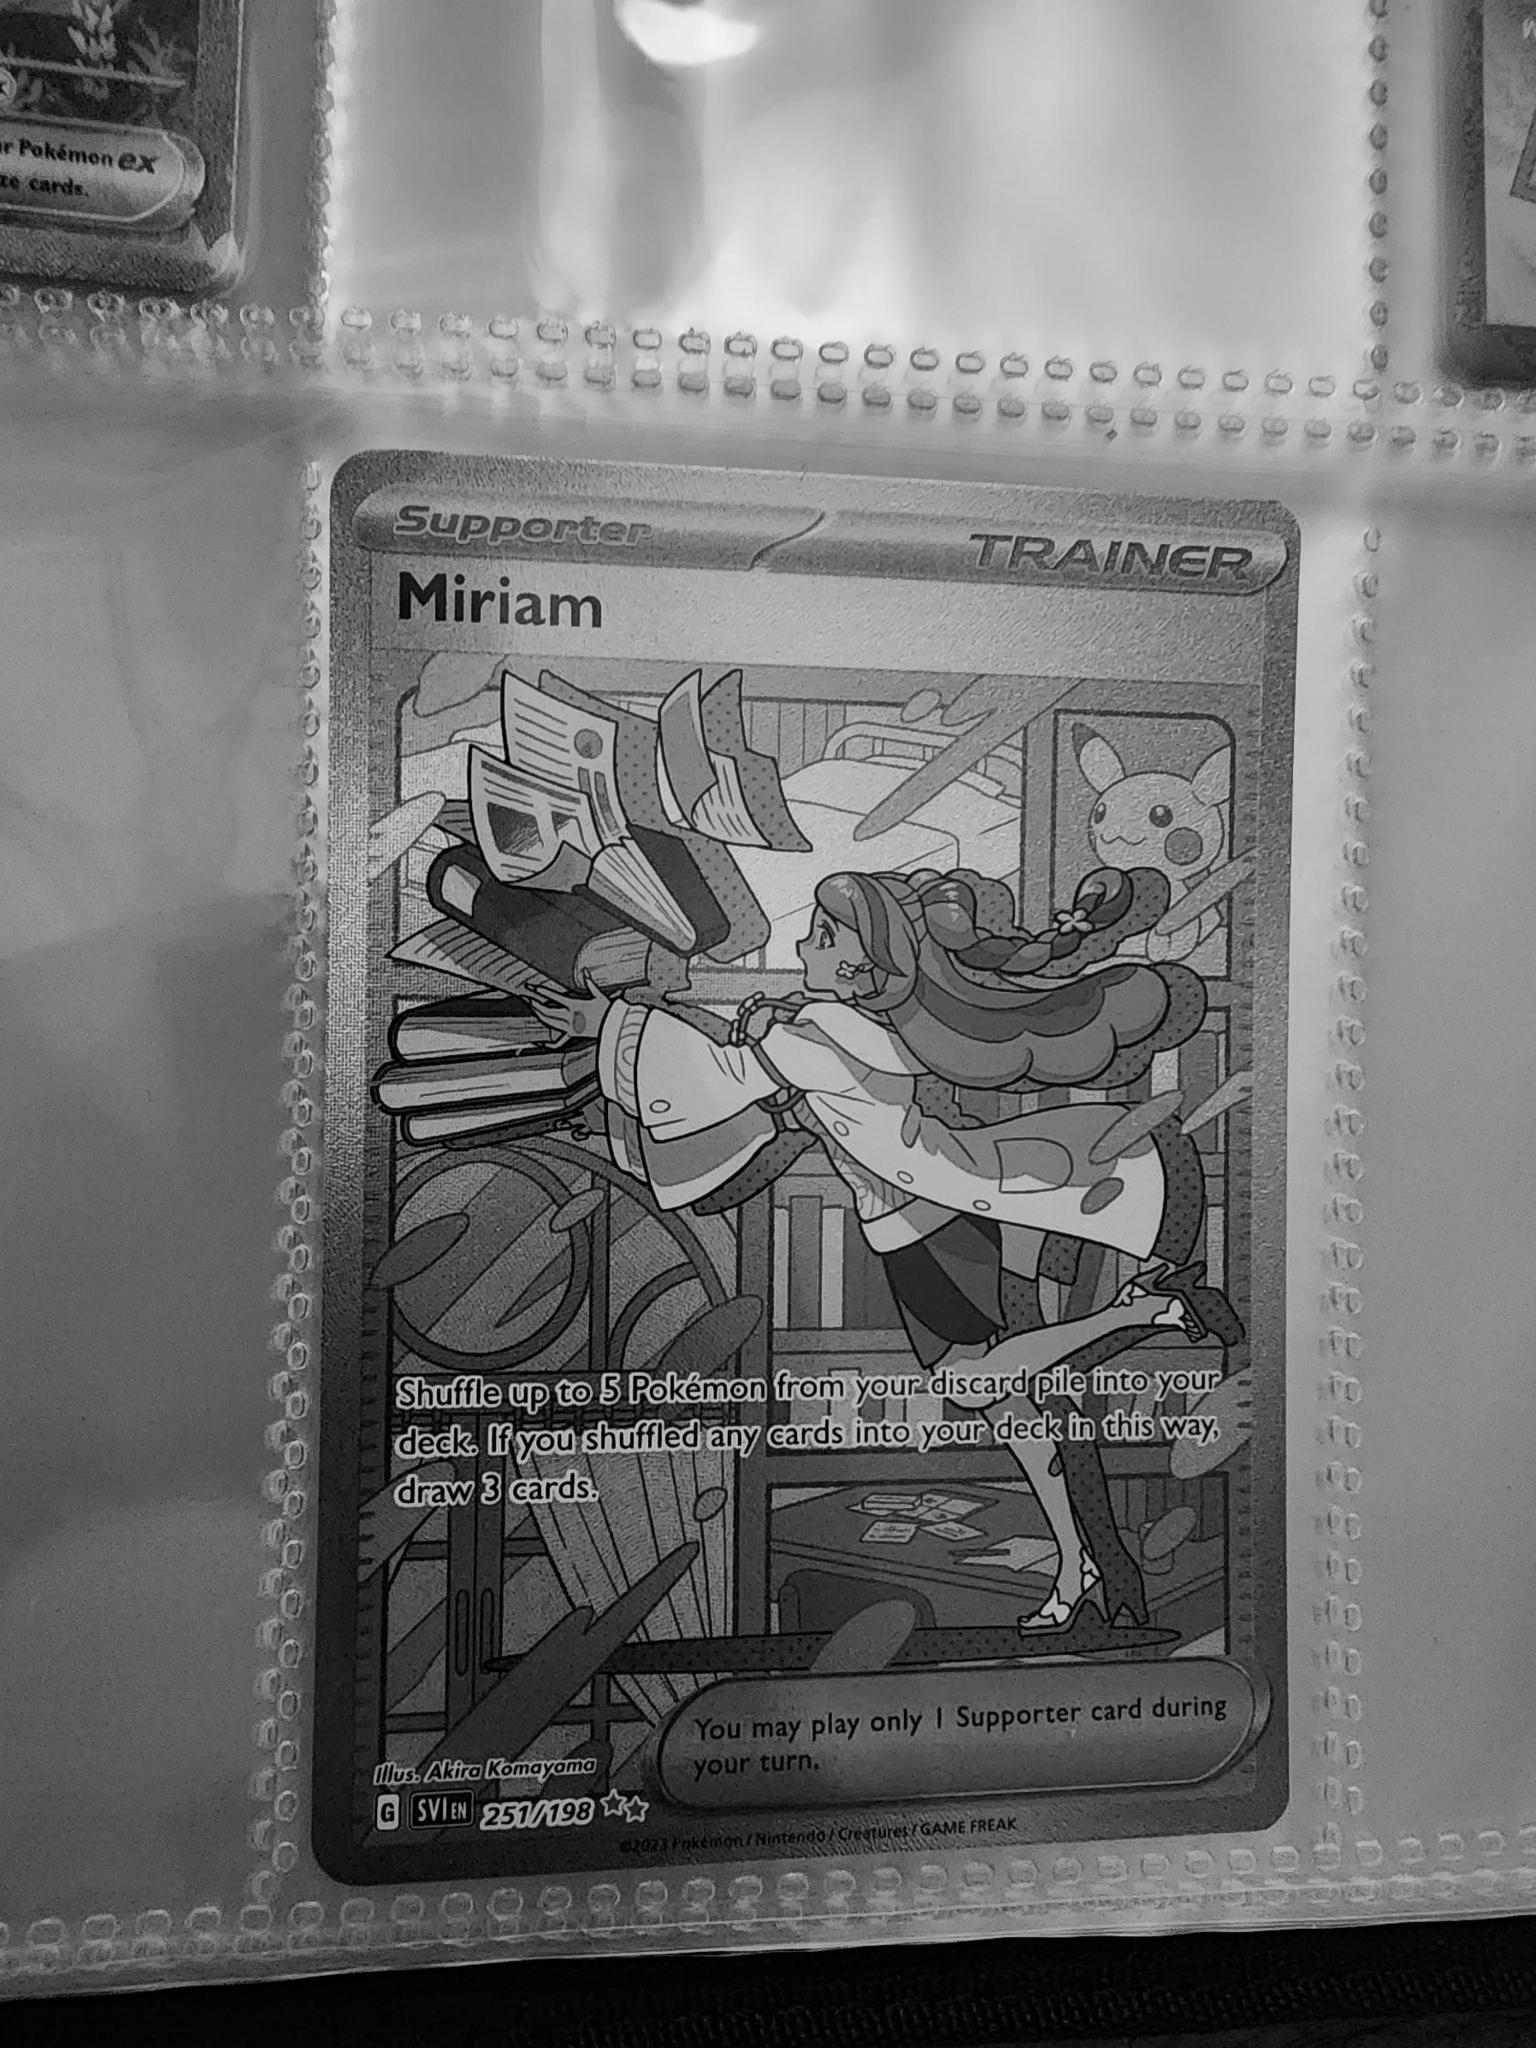card: (307, 442, 1307, 1892)
